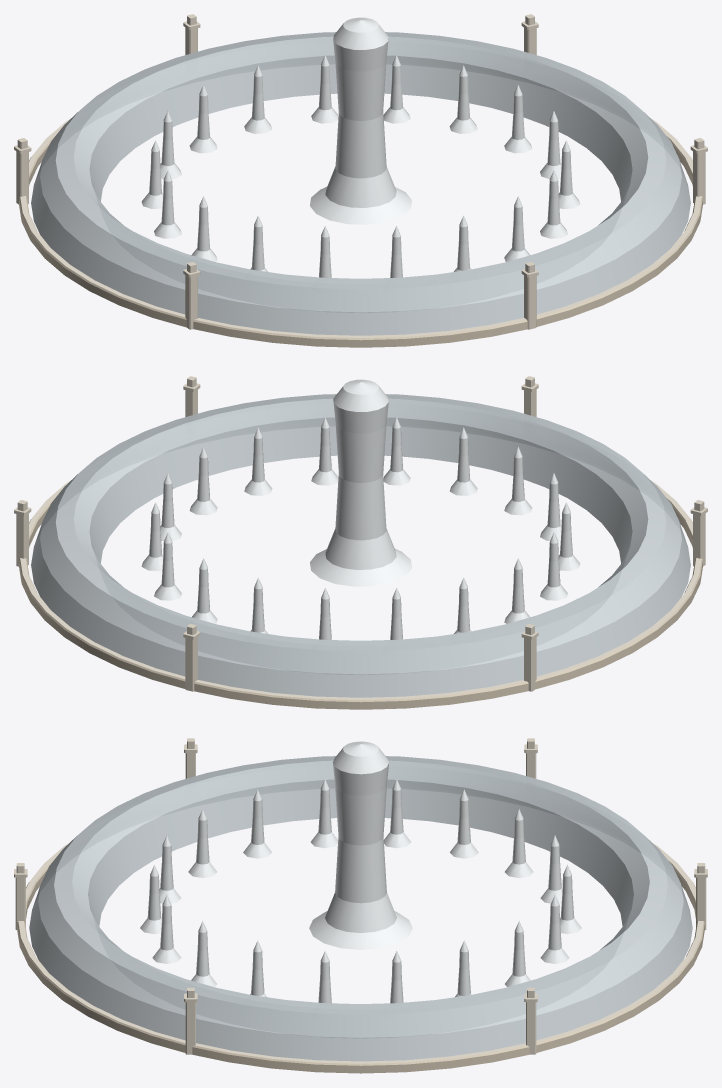
The model's file is jax-friendship-fountain.glb.
3 renders of one model, top to bottom at view 1: azimuth 30°, elevation 25°; view 2: azimuth 150°, elevation 25°; view 3: azimuth 270°, elevation 25°, orthographic.
Visible parts, largest first — view 1: Friendship Fountain; view 2: Friendship Fountain; view 3: Friendship Fountain.
Boxes of the visible parts, x1,y1,x2,y2 form: Friendship Fountain: [14, 14, 707, 347]; Friendship Fountain: [14, 376, 707, 709]; Friendship Fountain: [14, 738, 707, 1073].
Size of the model in its own units: 61 by 18 by 61.5.
